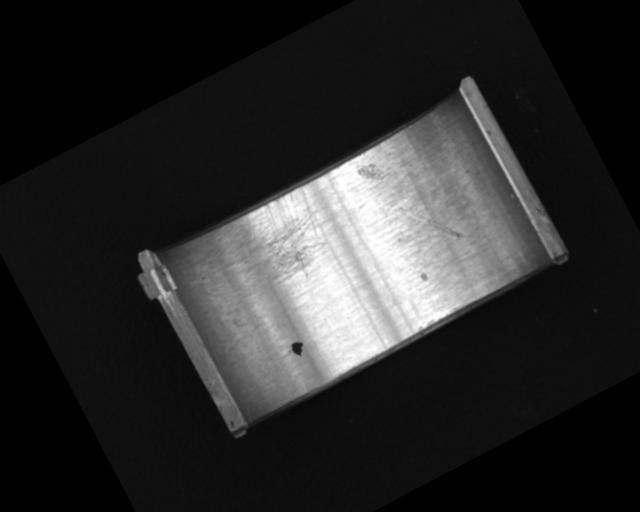blot: (288, 338, 308, 359)
bruise: (354, 156, 388, 189), (418, 270, 430, 284)
nick: (399, 186, 462, 256)
scratch: (189, 184, 342, 320)
